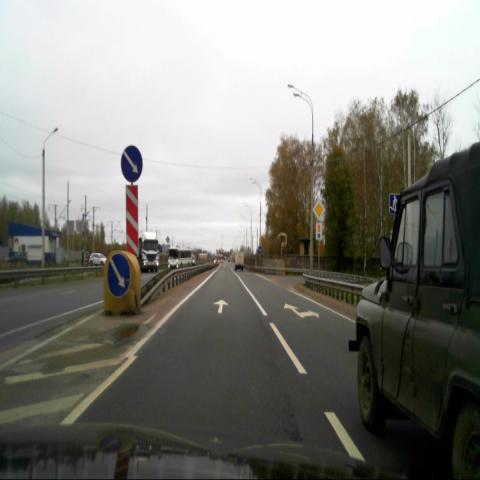4_2_1: (107, 253, 130, 298)
